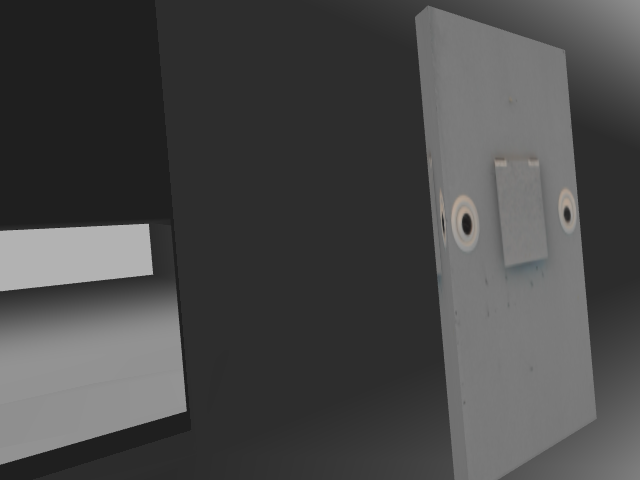facade: (448, 153, 580, 272)
